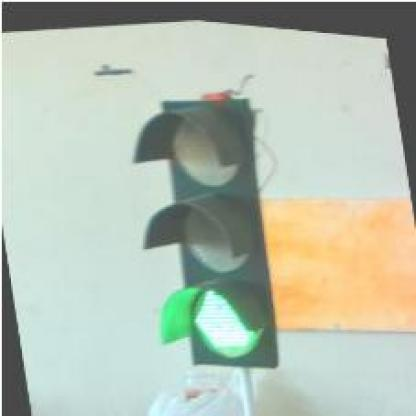green: (120, 81, 291, 378)
